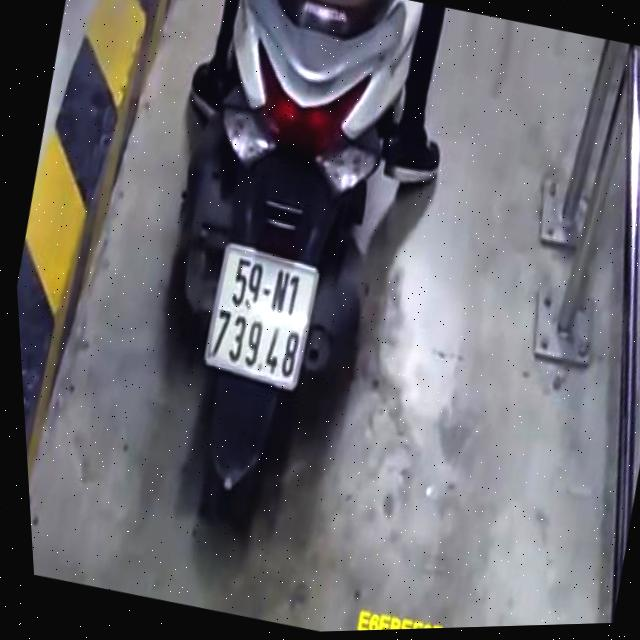motorcycle: (101, 0, 456, 557)
plate: (188, 232, 329, 394)
